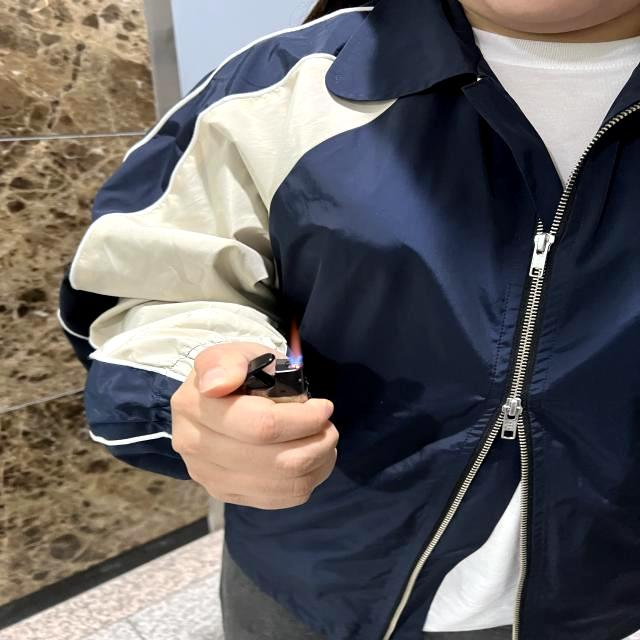fire: (287, 316, 305, 366)
